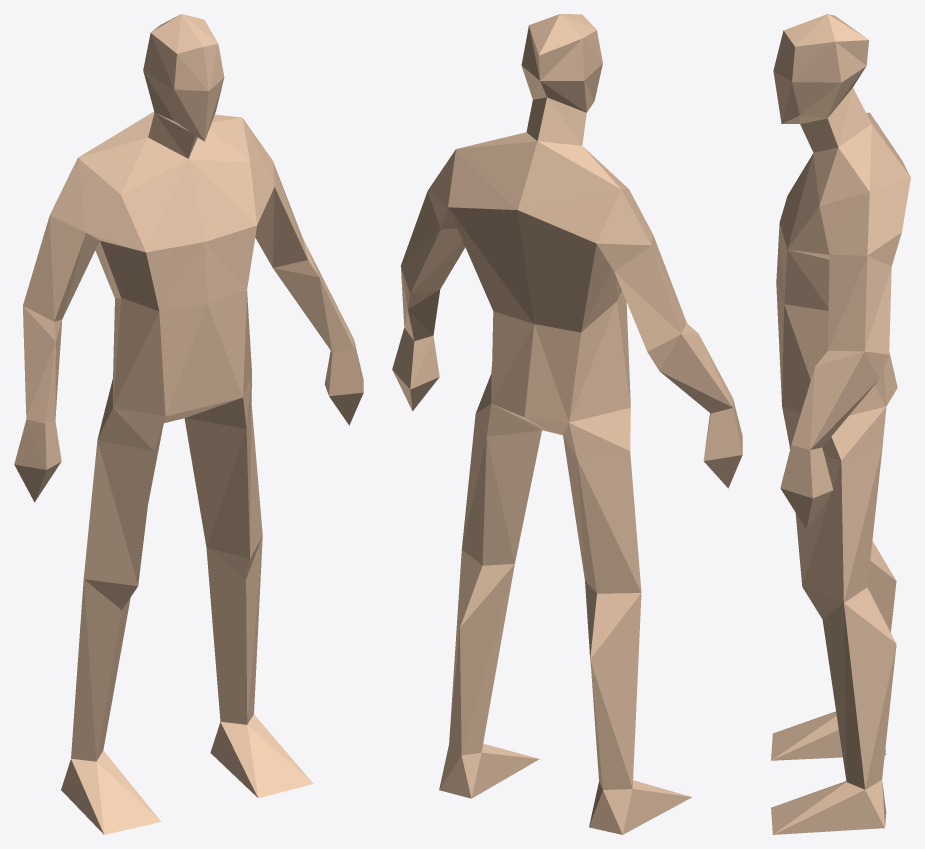
The picture shows the model from 3 angles, left to right: view 1: azimuth 30°, elevation 25°; view 2: azimuth 150°, elevation 25°; view 3: azimuth 270°, elevation 25°; orthographic projection.
Visible parts, largest first — view 1: base; view 2: base; view 3: base.
Part boxes in pixels (x1,y1,x2,y2): base: [14, 14, 363, 834]; base: [392, 14, 742, 834]; base: [771, 14, 910, 834].
Bounding box in the file's own units: 1.29 × 2.73 × 0.4497.
1 material, 1 textured.
